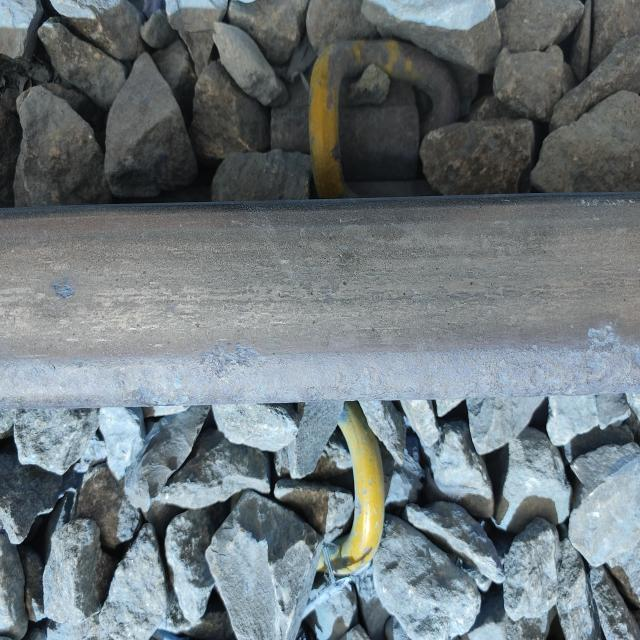Good Fasteners: (270, 40, 459, 198), (320, 401, 384, 577)
